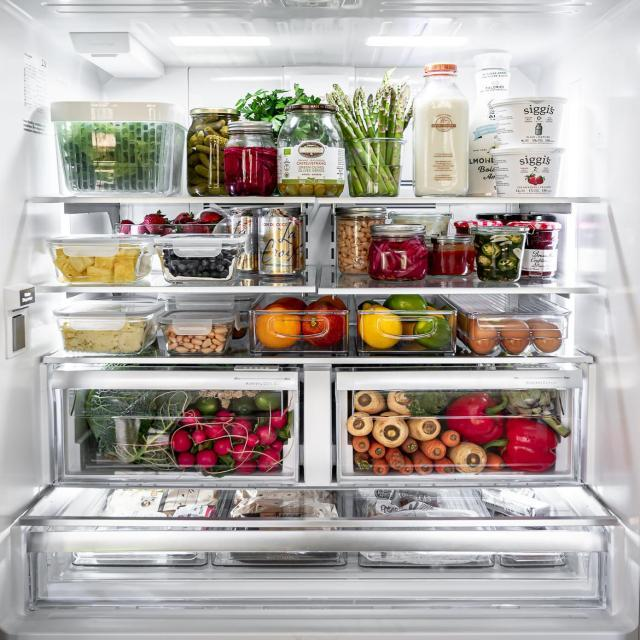apple: (303, 314, 344, 346)
asparagus: (342, 91, 405, 195)
carrots: (422, 440, 446, 459), (412, 452, 433, 473), (387, 449, 404, 469), (486, 451, 503, 470), (354, 452, 371, 471), (443, 429, 461, 446), (369, 442, 386, 460), (353, 437, 370, 452), (399, 456, 413, 474), (435, 458, 453, 472), (372, 461, 388, 474)
eggs: (470, 322, 563, 352)
lemon: (360, 308, 403, 347)
milk: (414, 64, 468, 195)
orange: (257, 308, 300, 347)
parsley: (250, 90, 288, 128)
strawberries: (144, 214, 166, 234), (200, 212, 223, 222), (174, 213, 193, 224), (120, 220, 134, 233)
yoghurt: (490, 148, 564, 196), (494, 97, 562, 149)
